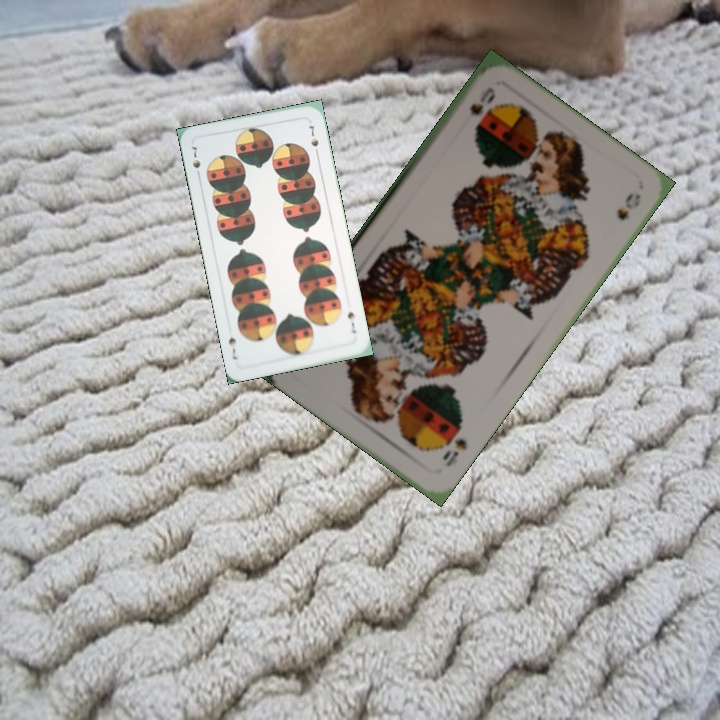S7: (188, 142, 203, 181), (343, 306, 359, 336)
SO: (465, 83, 499, 119), (438, 434, 470, 470)
